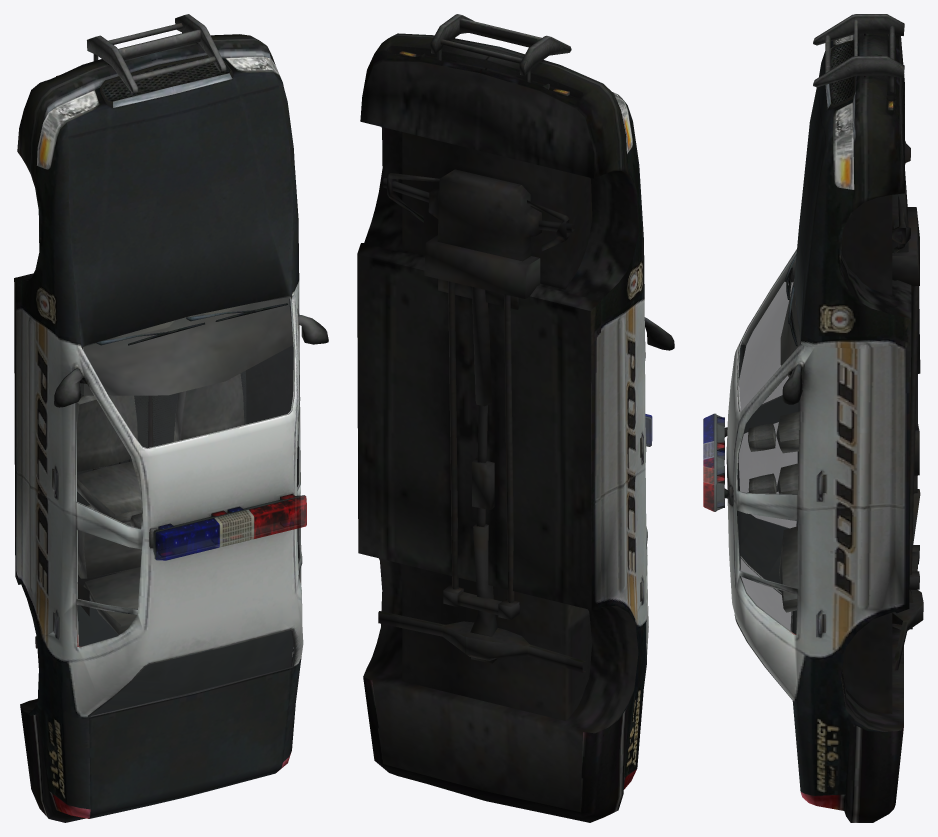
File: policecar.obj
3 renders of one model, left to right at view 1: azimuth 30°, elevation 25°; view 2: azimuth 150°, elevation 25°; view 3: azimuth 270°, elevation 25°, orthographic. The views are drawn at different scales.
Parts seen in each view (by area): view 1: policecar; view 2: policecar; view 3: policecar.
Part boxes in pixels (x1=…): policecar: x1=14, y1=14, x2=328, y2=822; policecar: x1=357, y1=14, x2=674, y2=822; policecar: x1=703, y1=14, x2=923, y2=822.
Bounding box in the file's own units: 1.99 × 5.34 × 1.43.
4 materials, 4 textured.
